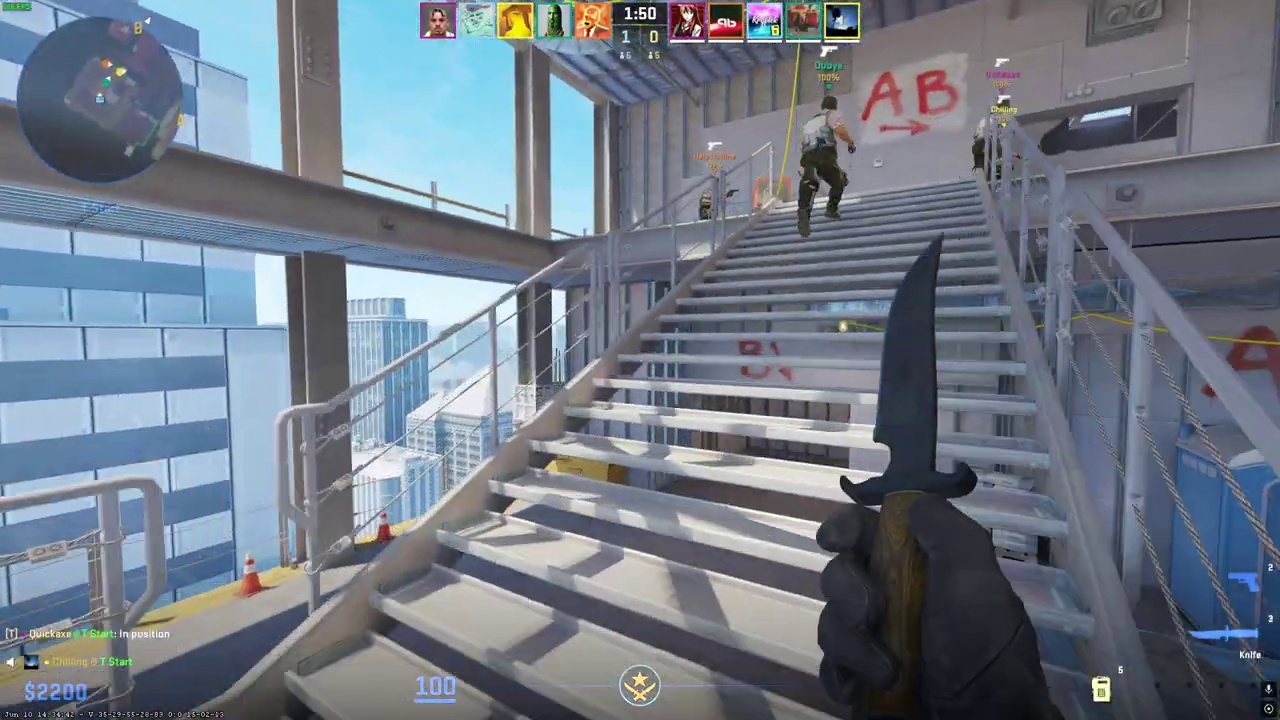Terrorist: (797, 95, 853, 236), (972, 99, 1008, 176), (700, 177, 724, 219)
